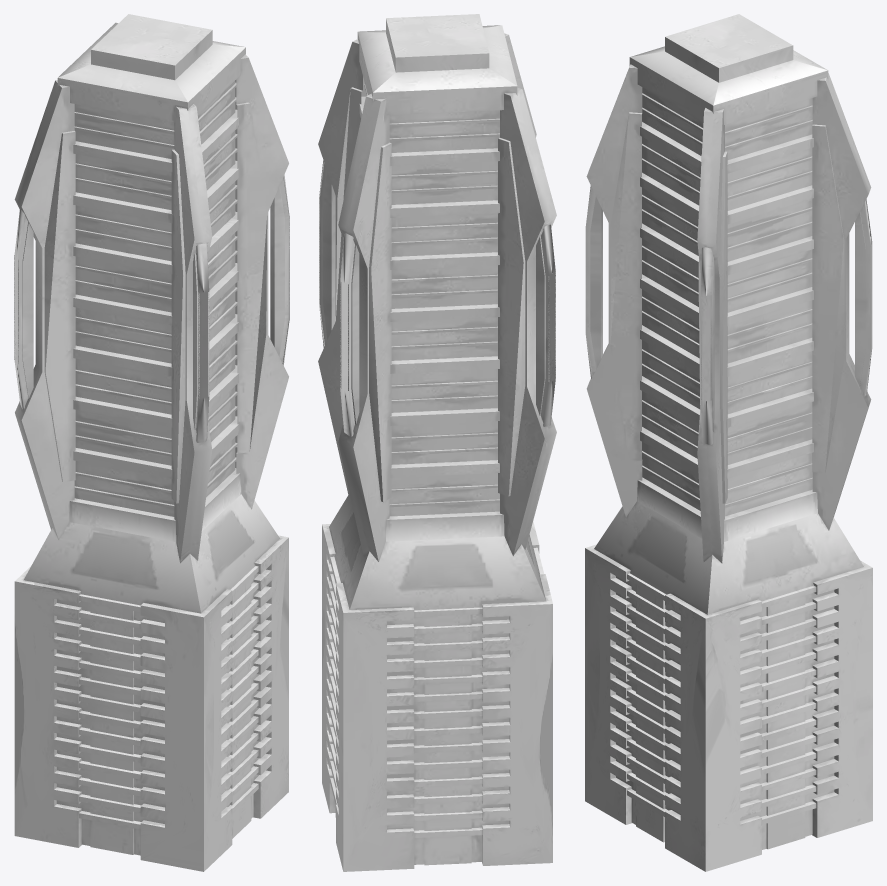
The model's file is env-building-4.glb.
The picture shows the model from 3 angles, left to right: view 1: azimuth 30°, elevation 25°; view 2: azimuth 150°, elevation 25°; view 3: azimuth 270°, elevation 25°; orthographic projection. The views are drawn at different scales.
Visible parts, largest first — view 1: Building4_T_B4base_white_0; view 2: Building4_T_B4base_white_0; view 3: Building4_T_B4base_white_0.
Part boxes in pixels (x1,y1,x2,y2): Building4_T_B4base_white_0: (14, 14, 289, 871); Building4_T_B4base_white_0: (318, 14, 556, 871); Building4_T_B4base_white_0: (585, 14, 872, 871).
Size of the model in its own units: 2.6 by 7.66 by 2.6.
1 material, 1 textured.
